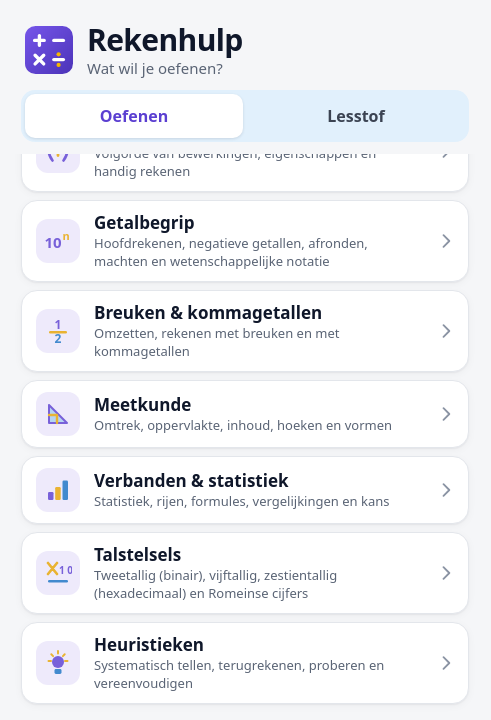
Test: App › offers Heuristieken with its topics and starts a session
(page scrolled)
Click the button that starts with "Heuristieken" at (245,663), box [21,622,469,704]
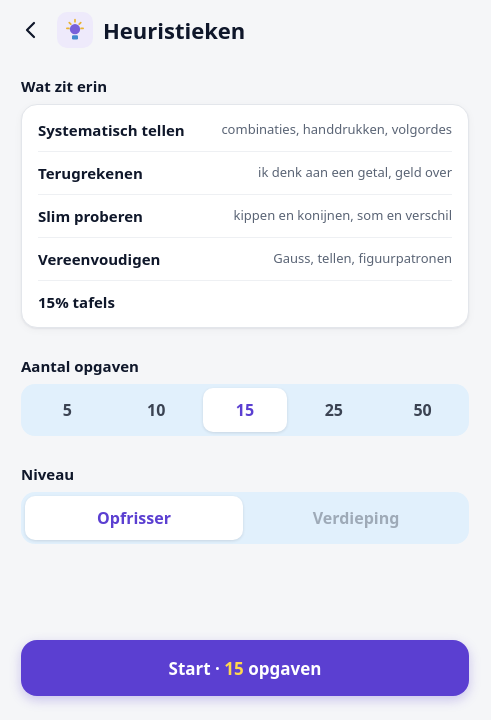
Check: the heading "Heuristieken" is shown, box [103,16,245,44]
Check: the text "Slim proberen" is shown, box [38,206,143,226]
Click the button "Start · 15 opgaven" at (245,668), box [21,640,469,696]
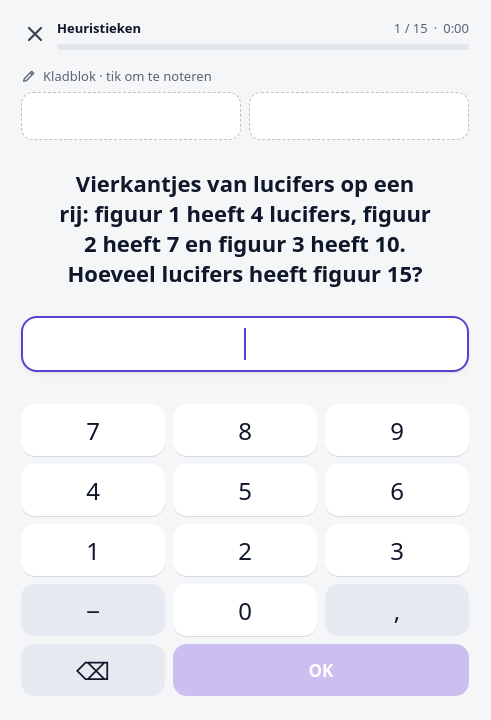
Check: the text "1 / 15" is shown, box [394,18,428,38]
